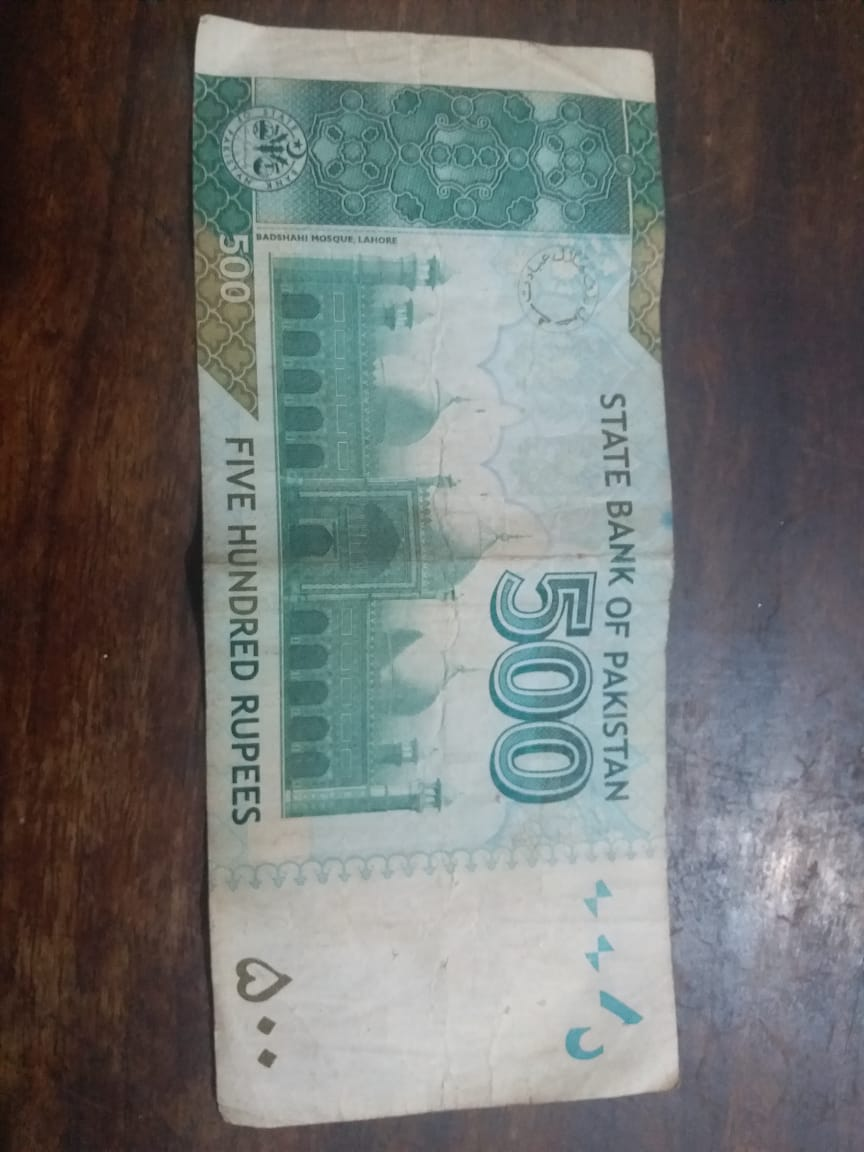500 rupee: (155, 32, 719, 1140)
